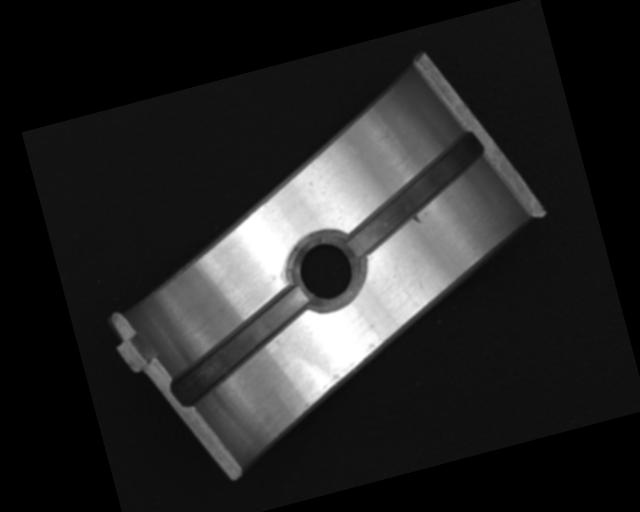bruise: (409, 213, 423, 227)
gap: (331, 130, 500, 259), (156, 284, 326, 409)
hole: (284, 227, 369, 316)
